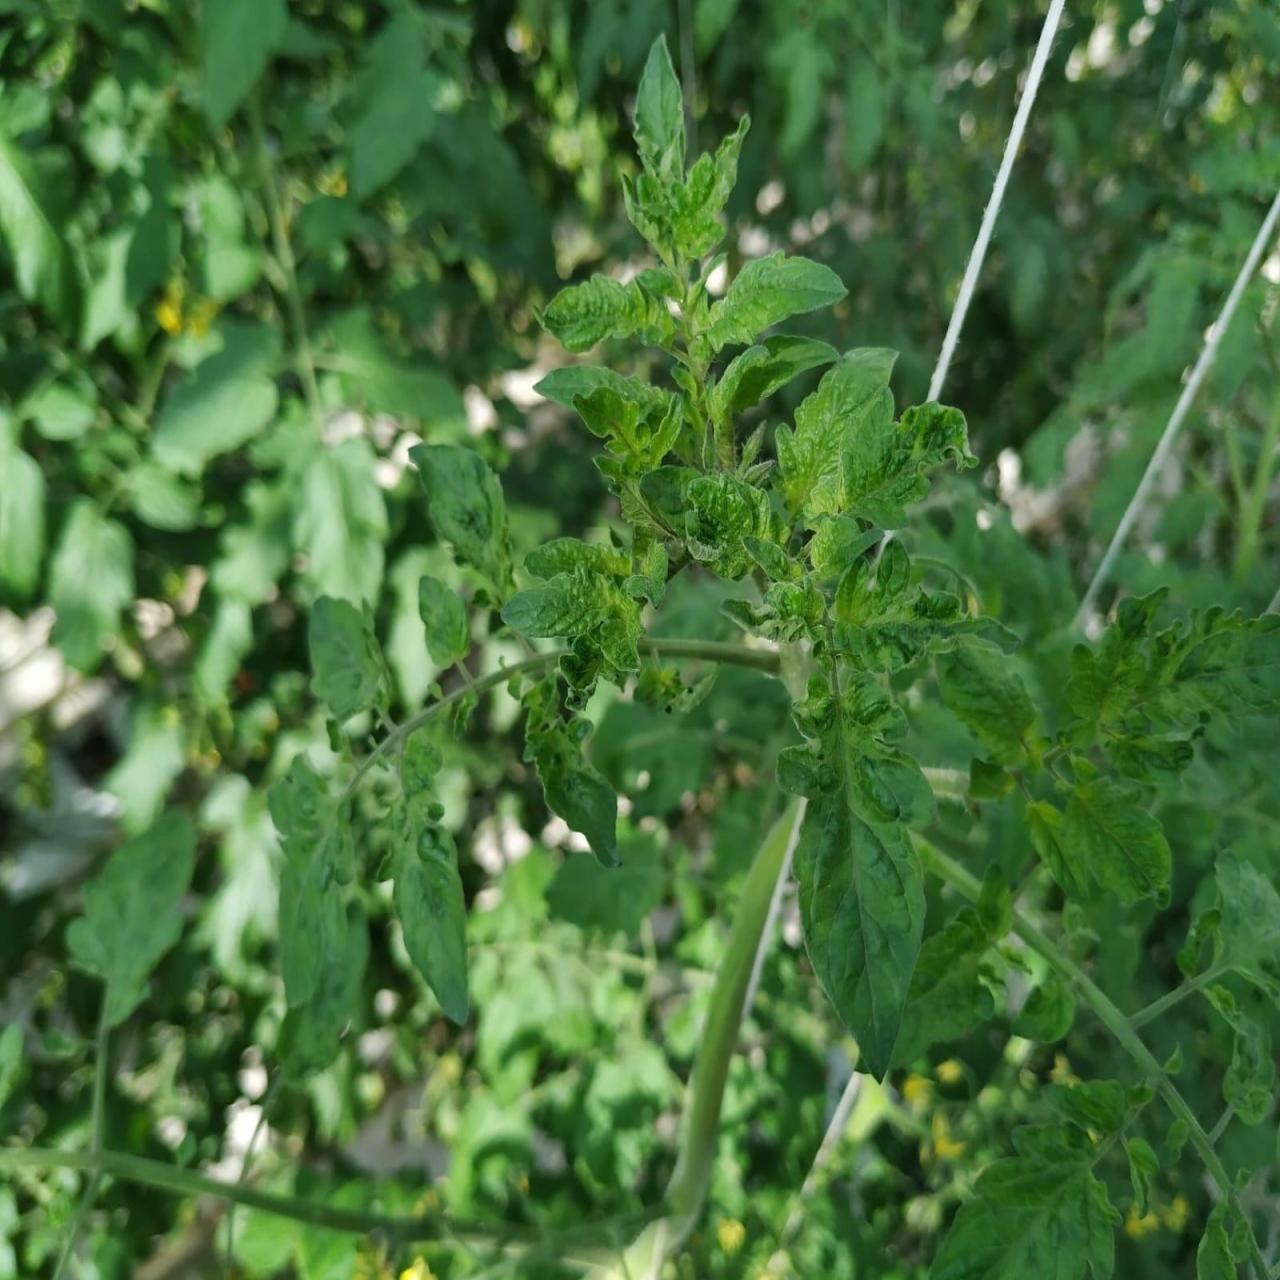T_L_H: (796, 788, 926, 1080)
T_L_R: (776, 348, 971, 527), (709, 251, 849, 350), (544, 274, 676, 350), (504, 568, 617, 639)
